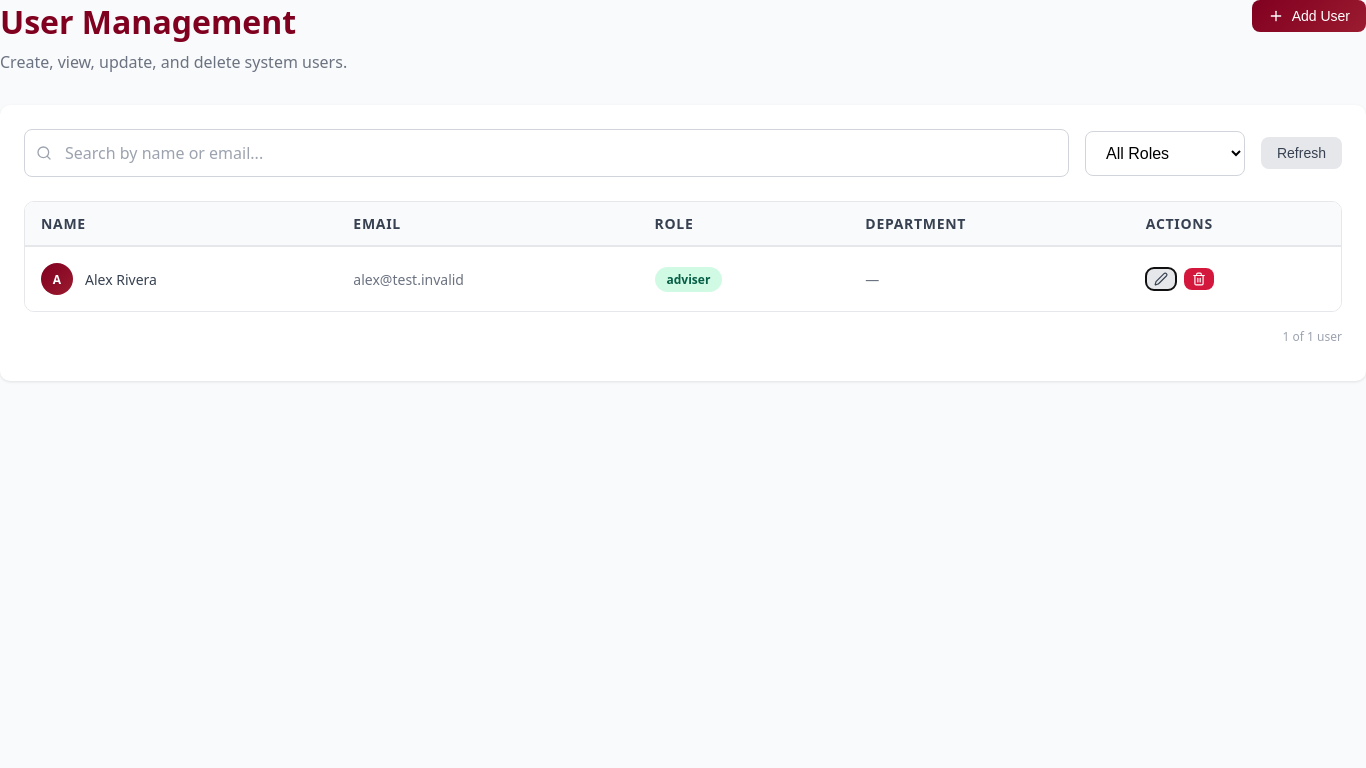
Test case: account editor exposes a labelled dialog and closes on Escape
Click the button named "Edit Alex Rivera" at point(1161, 279), box [1146, 268, 1176, 290]
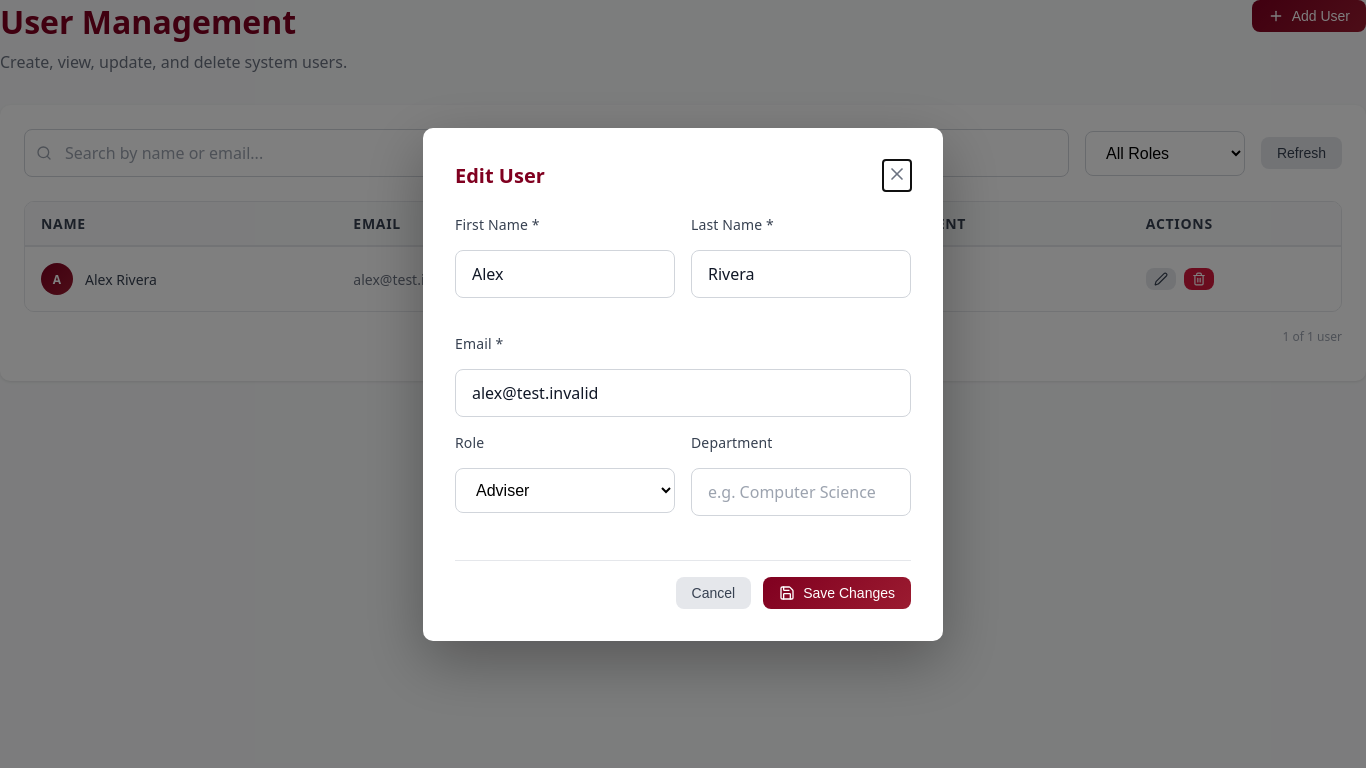
Check: the dialog is shown
Check: the label "First Name *" is shown, box [455, 214, 540, 234]
Press Escape in the dialog, box [423, 128, 943, 640]
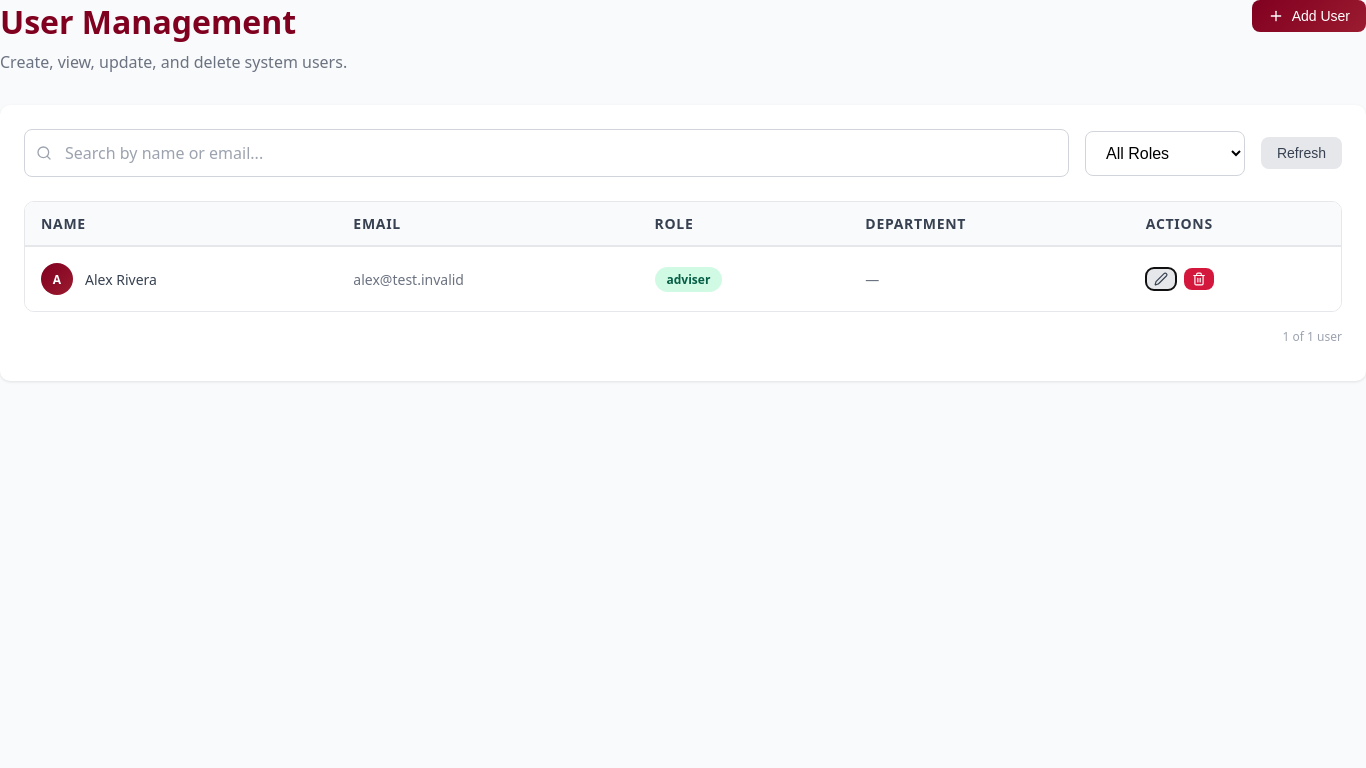
Check: the dialog is gone
